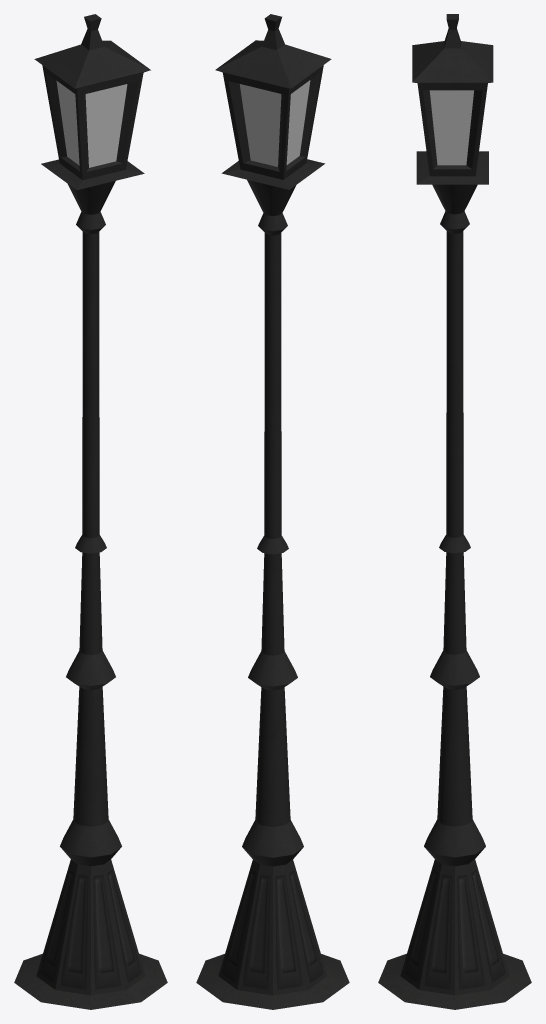
Rendered from D_lamppost_1x_park.FBX.
The picture shows the model from 3 angles, left to right: view 1: azimuth 30°, elevation 25°; view 2: azimuth 150°, elevation 25°; view 3: azimuth 270°, elevation 25°; orthographic projection.
Parts seen in each view (by area): view 1: Object155; view 2: Object155; view 3: Object155.
Part boxes in pixels (x1,y1,x2,y2): Object155: (14, 14, 167, 1009); Object155: (196, 14, 349, 1009); Object155: (378, 14, 531, 1009).
Bounding box in the file's own units: 1.81 × 1.83 × 12.64.
